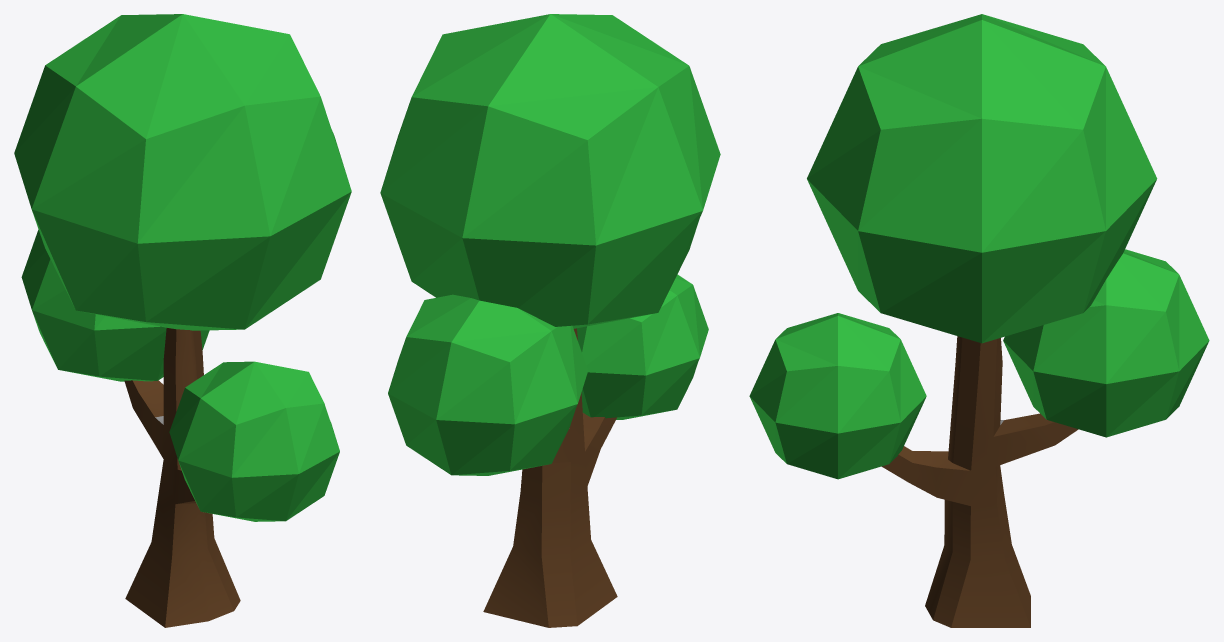
The model's file is Tree004.FBX.
3 renders of one model, left to right at view 1: azimuth 30°, elevation 25°; view 2: azimuth 150°, elevation 25°; view 3: azimuth 270°, elevation 25°, orthographic.
Parts seen in each view (by area): view 1: Tree004; view 2: Tree004; view 3: Tree004.
Boxes of the visible parts, x1,y1,x2,y2 form: Tree004: [14, 14, 351, 627]; Tree004: [380, 14, 720, 627]; Tree004: [749, 14, 1209, 627].
Bounding box in the file's own units: 77.84 × 144 × 102.
